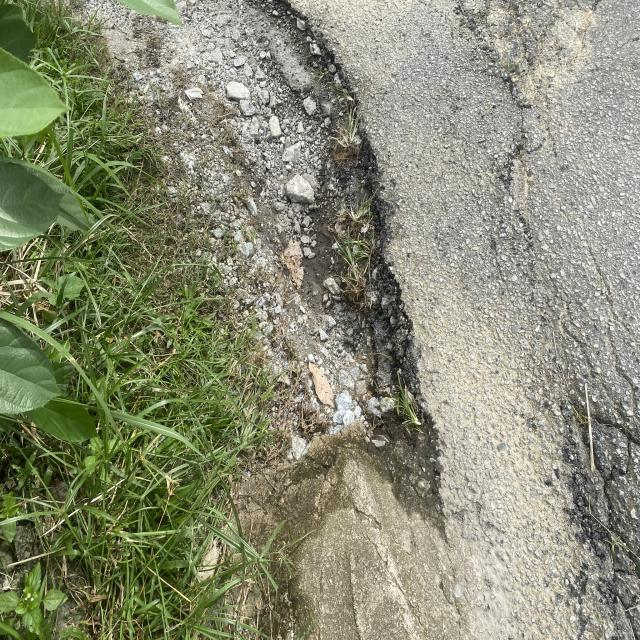pothole: (230, 1, 493, 516)
